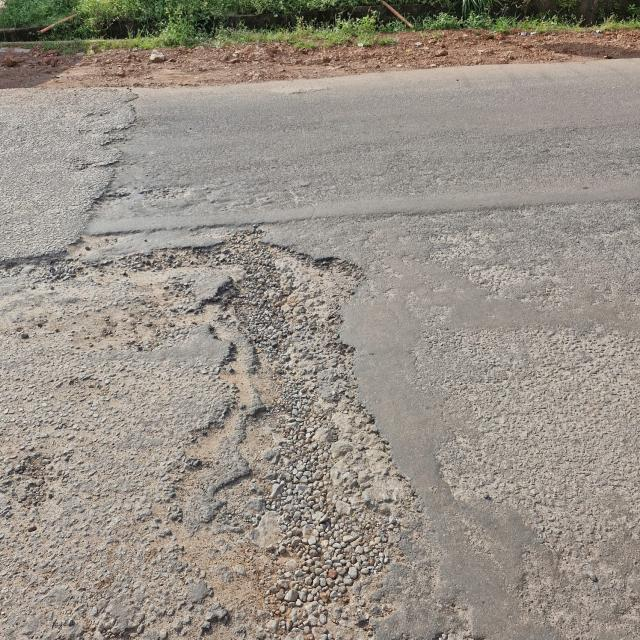pothole: (167, 221, 433, 640), (0, 206, 182, 363), (91, 94, 148, 206), (76, 593, 171, 640), (3, 447, 56, 525), (434, 580, 491, 640)
